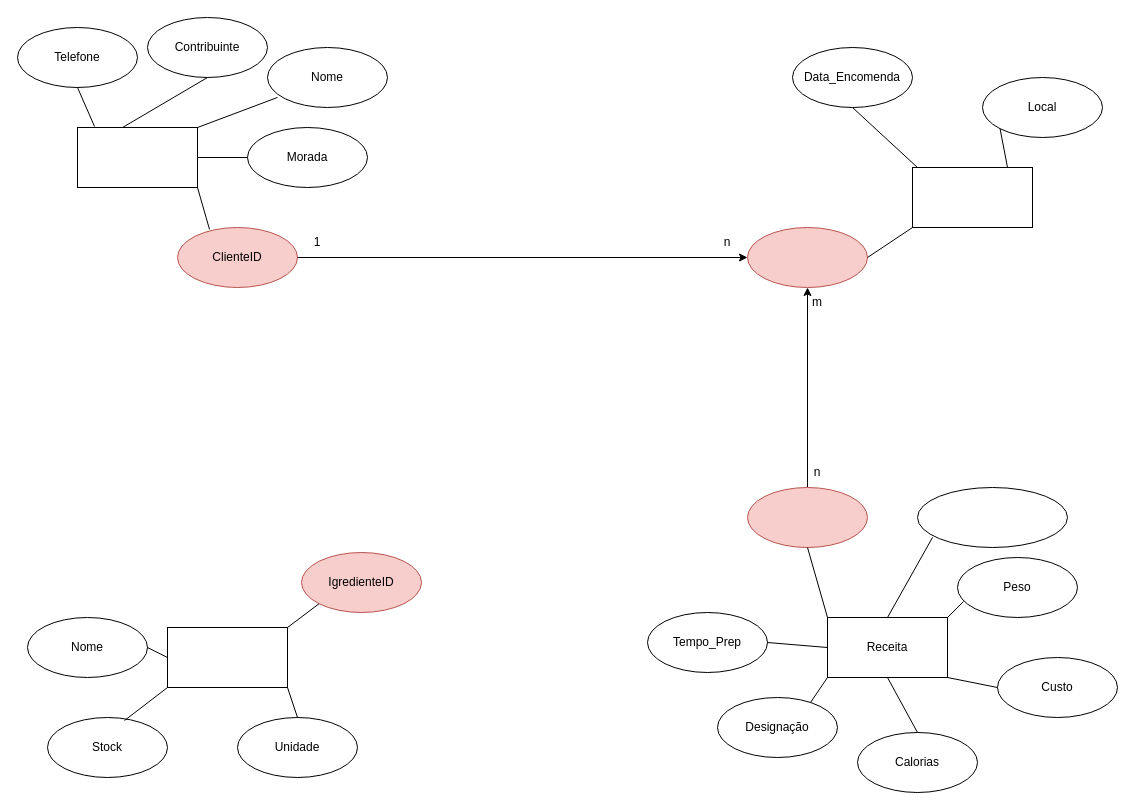
The diagram is 1135 pixels wide and 810 high, and some of its shapes have lost their labels. Each missing label, with the centre of its shape:
"Cliente" belongs at (137,157).
"Encomenda" belongs at (972,197).
"EncomendaID" belongs at (807,257).
"Igrediente" belongs at (227,657).
"Quantidade_Igrediente" belongs at (992,517).
"ReceitaID" belongs at (807,517).
